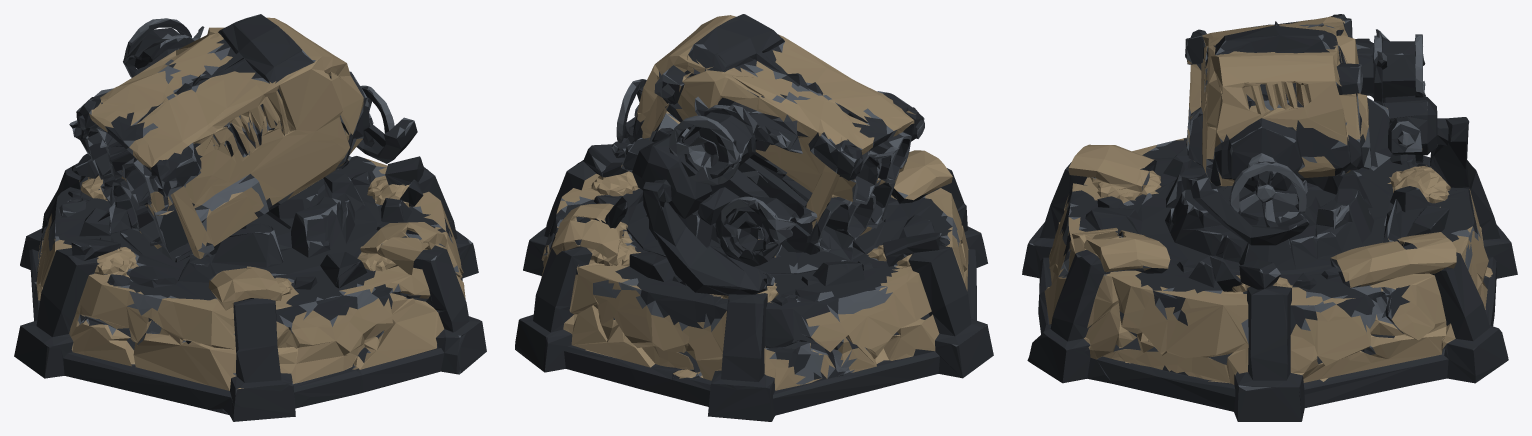
File: rk40-brasa-destruida.glb
3 views of the same model, side by side, from view 1: azimuth 30°, elevation 25°; view 2: azimuth 150°, elevation 25°; view 3: azimuth 270°, elevation 25° (orthographic). The views are drawn at different scales.
Visible parts, largest first — view 1: hull; view 2: hull; view 3: hull.
Boxes of the visible parts, x1,y1,x2,y2 form: hull: (14,14,486,421); hull: (515,14,993,421); hull: (1022,14,1517,421).
Bounding box in the file's own units: 1.07 × 0.6533 × 0.9998.
